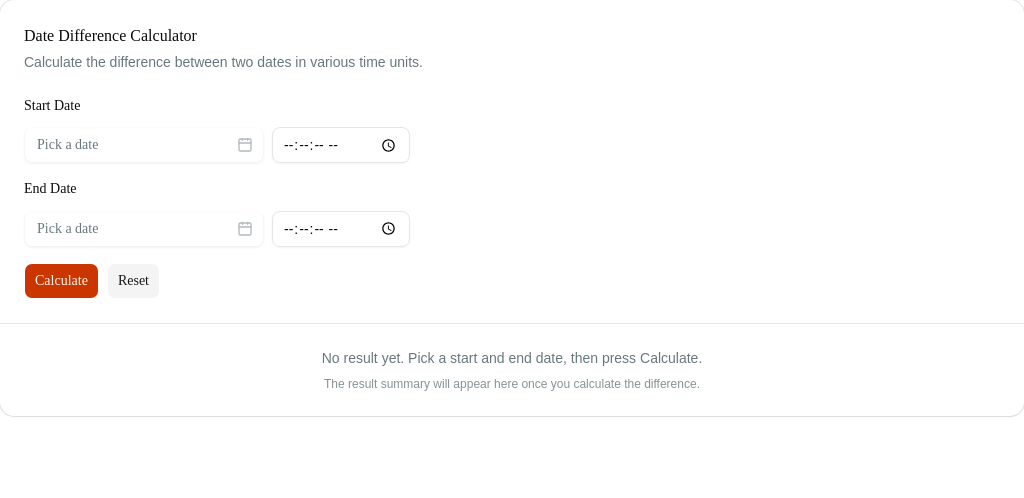
Test: DateDifference › onSubmit validation › shows required error on both date fields for empty submit
Click the button with aria-label "calculate difference". click: (61, 280)
box: [24, 262, 99, 298]
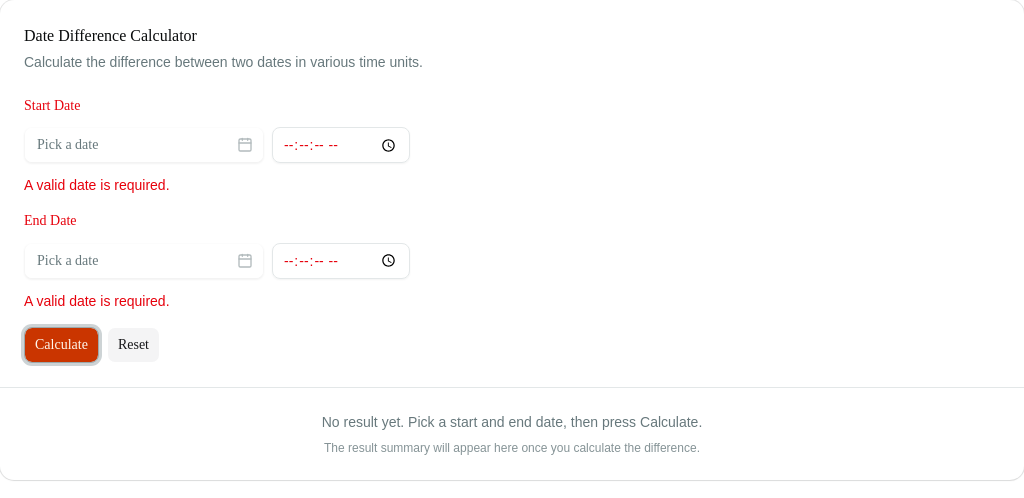
Now the number of messages is 2, box [24, 177, 170, 193]; [24, 292, 170, 308]
